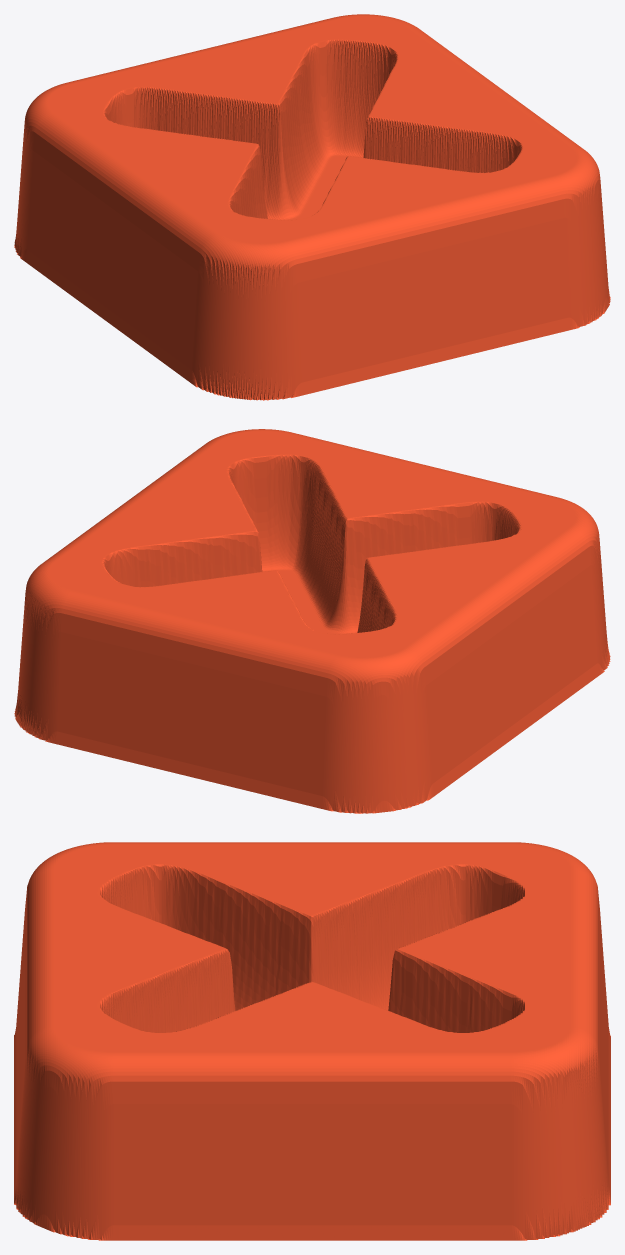
The model's file is mold.glb.
3 renders of one model, top to bottom at view 1: azimuth 30°, elevation 25°; view 2: azimuth 150°, elevation 25°; view 3: azimuth 270°, elevation 25°, orthographic. The views are drawn at different scales.
Parts seen in each view (by area): view 1: geometry_0; view 2: geometry_0; view 3: geometry_0.
Part boxes in pixels (bbox=[...]): geometry_0: bbox=[14, 14, 610, 400]; geometry_0: bbox=[14, 429, 610, 813]; geometry_0: bbox=[14, 842, 610, 1240].
Bounding box in the file's own units: 0.0518 × 0.0172 × 0.0542.
